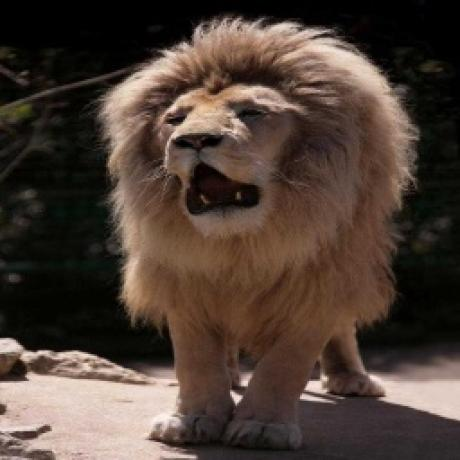Lion: (100, 13, 420, 454)
